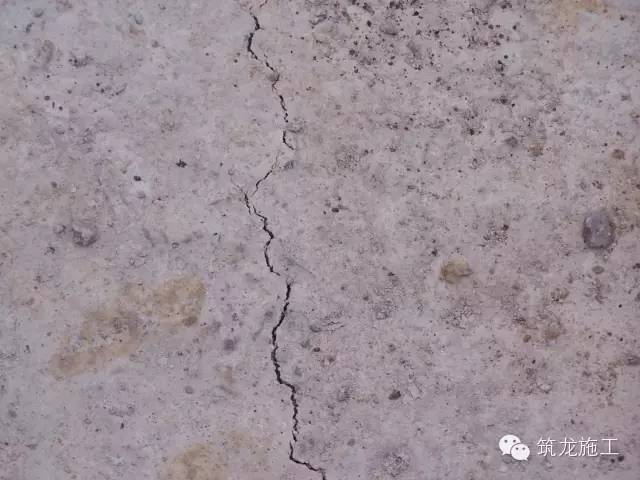crack: (213, 1, 353, 480)
